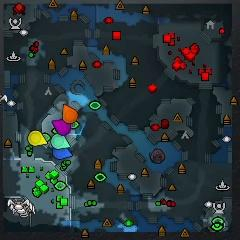p1: (52, 148, 73, 160)
p2: (51, 134, 70, 149)
p3: (52, 119, 71, 135)
p4: (28, 131, 47, 146)
p5: (62, 105, 78, 124)
